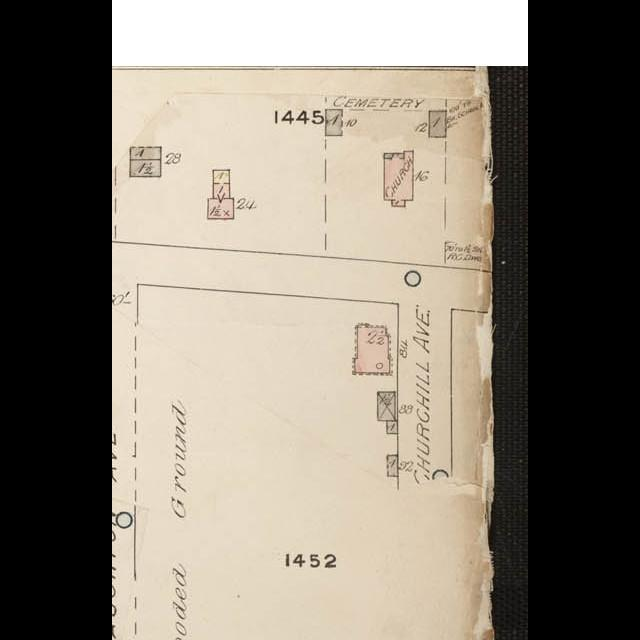building-footprints: (354, 327, 390, 373), (384, 150, 413, 206), (208, 170, 233, 218), (130, 159, 161, 176), (378, 392, 395, 421), (429, 110, 446, 137), (326, 109, 342, 135), (130, 147, 161, 159), (388, 455, 397, 476), (387, 421, 398, 433)
